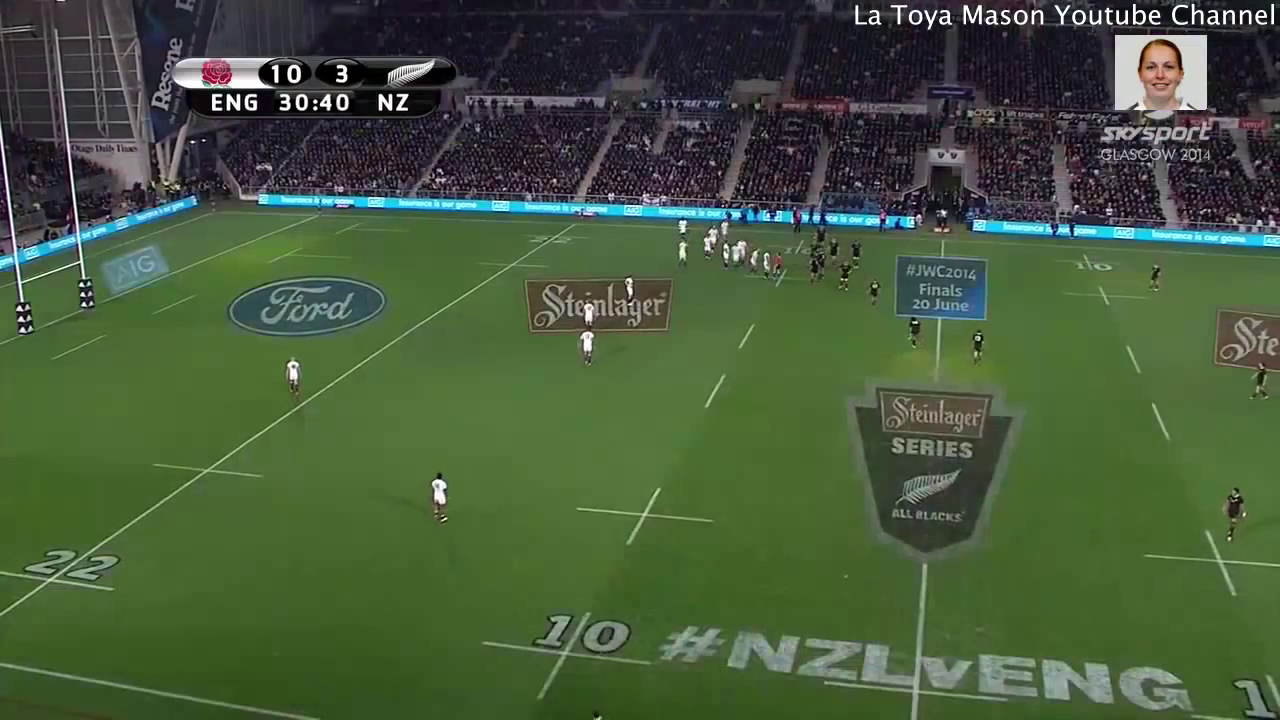10_metre: (472, 603, 659, 706), (566, 475, 722, 551), (1137, 524, 1280, 601), (1184, 669, 1280, 720), (1058, 279, 1159, 311), (1046, 246, 1133, 277), (739, 261, 816, 292), (762, 234, 832, 258)
player: (1213, 476, 1253, 549), (423, 469, 459, 529), (1245, 356, 1276, 409), (280, 353, 309, 406), (574, 324, 599, 371), (965, 323, 990, 367), (618, 271, 642, 306), (1144, 256, 1164, 297), (904, 314, 923, 353), (863, 276, 885, 309), (579, 298, 598, 336), (672, 236, 691, 272), (834, 258, 851, 293), (848, 240, 864, 272), (727, 240, 743, 271), (674, 213, 690, 242), (825, 234, 839, 266), (747, 245, 760, 278), (812, 223, 829, 248), (735, 235, 748, 266), (770, 249, 783, 280), (759, 247, 771, 280), (718, 239, 730, 271), (816, 249, 828, 281), (706, 225, 719, 251), (717, 217, 731, 241), (701, 232, 713, 260), (806, 256, 818, 283)
post: (1, 23, 101, 340)
